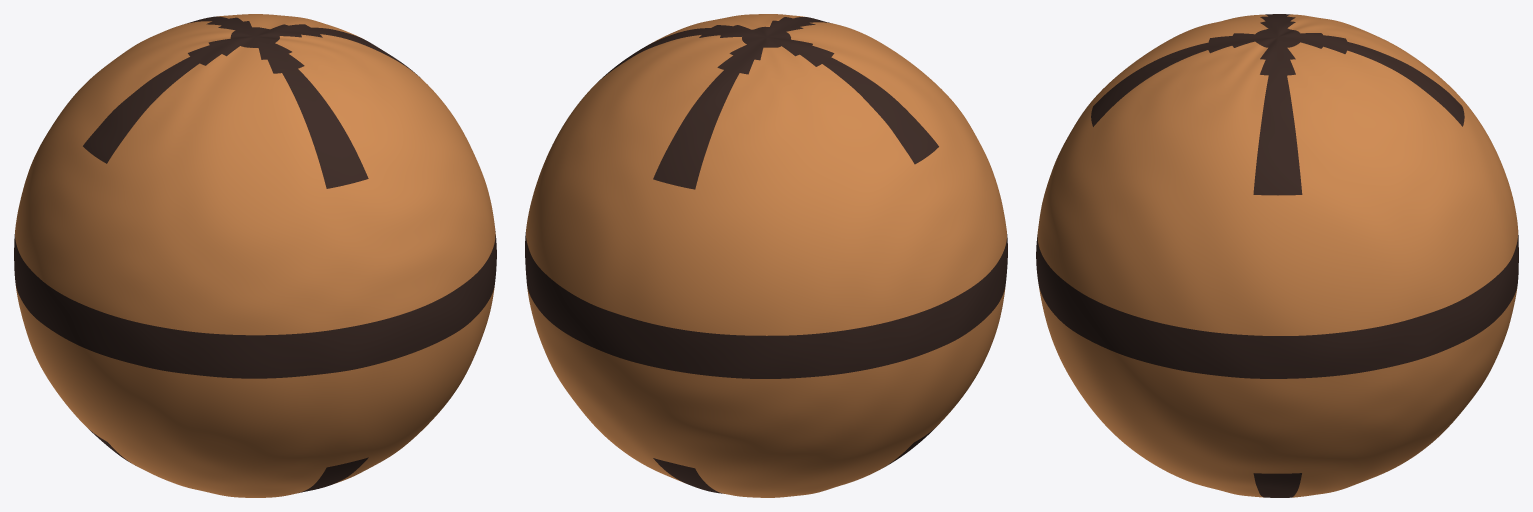
File: basketball.glb
3 renders of one model, left to right at view 1: azimuth 30°, elevation 25°; view 2: azimuth 150°, elevation 25°; view 3: azimuth 270°, elevation 25°, orthographic.
Visible parts, largest first — view 1: Basketball; view 2: Basketball; view 3: Basketball.
Part boxes in pixels (left/top/right/bottom): Basketball: left=14, top=14, right=496, bottom=497; Basketball: left=525, top=14, right=1007, bottom=497; Basketball: left=1036, top=14, right=1518, bottom=497.
Bounding box in the file's own units: 1.99 × 2 × 1.99.
